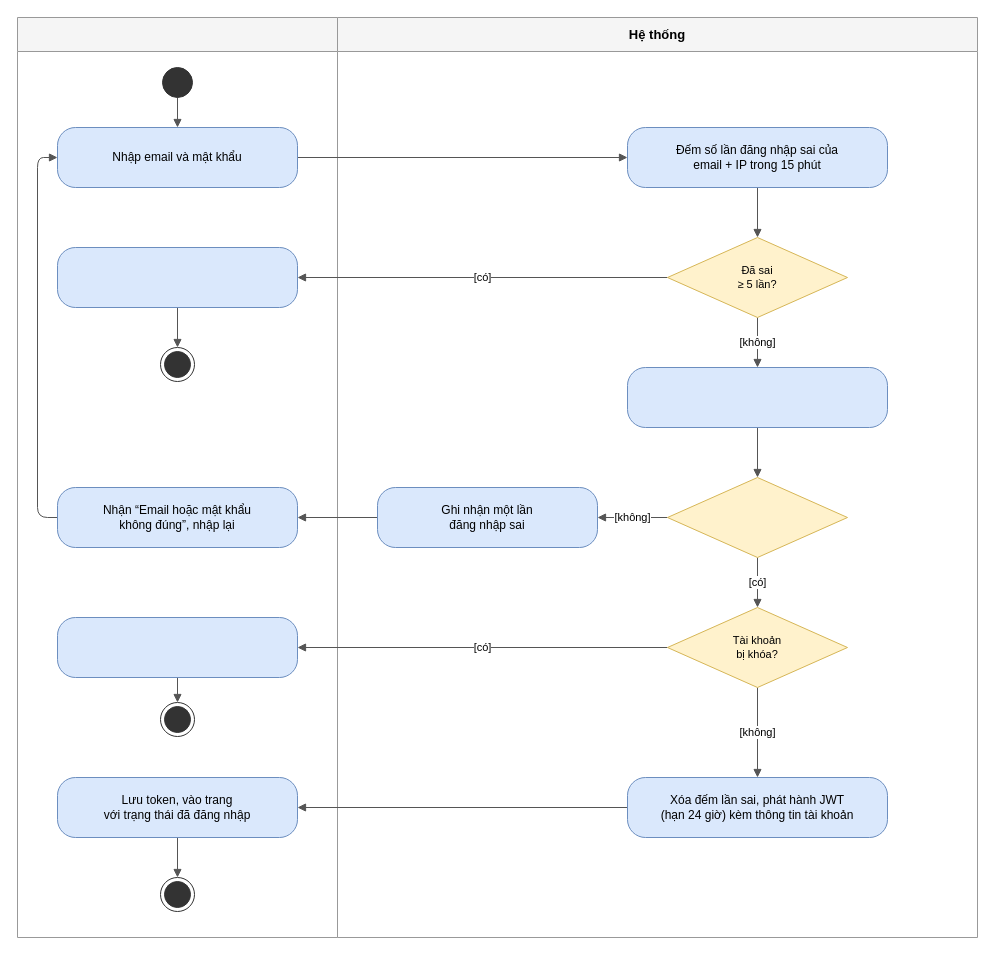
This 995x955 diagram has some shape labels left out. The box of each missing label's shape, as (x1, y1, x2, y2) in pixels:
Người dùng: (16, 16, 338, 938)
Nhận thông báo thao tác quá nhiều, thử lại sau ít phút: (56, 246, 298, 308)
Nhận thông báo “Tài khoản đã bị khóa”: (56, 616, 298, 678)
Tìm tài khoản theo email (chữ thường), so khớp mật khẩu BCrypt: (626, 366, 888, 428)
Đúng email và mật khẩu?: (666, 476, 848, 558)
